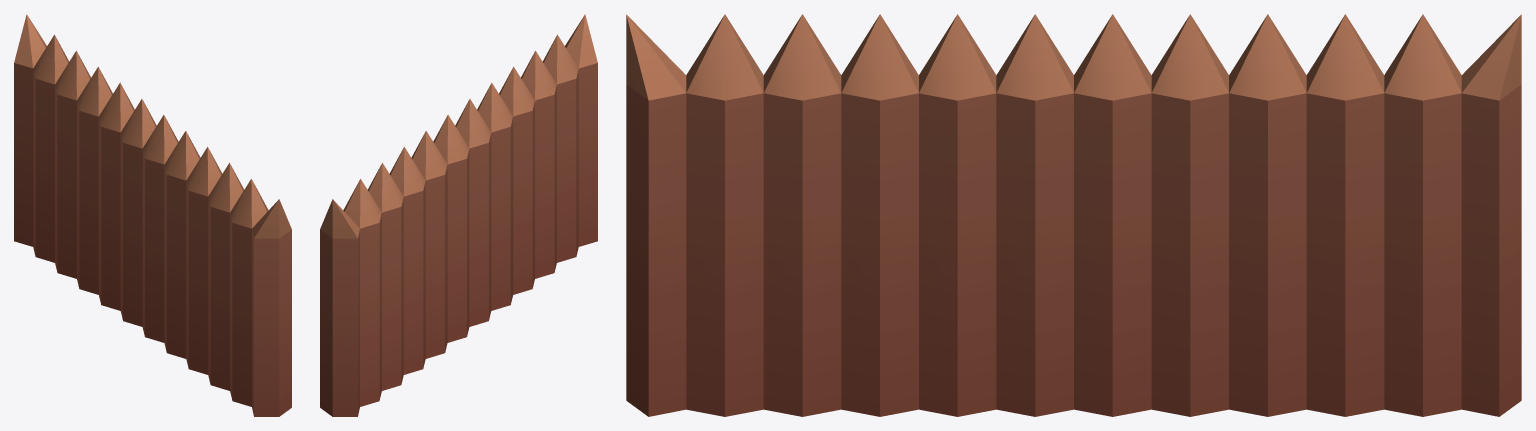
The model's file is fence_wood_straight.glb.
3 views of the same model, side by side, from view 1: azimuth 30°, elevation 25°; view 2: azimuth 150°, elevation 25°; view 3: azimuth 270°, elevation 25° (orthographic). The views are drawn at different scales.
Parts seen in each view (by area): view 1: fence_wood_straight; view 2: fence_wood_straight; view 3: fence_wood_straight.
Part boxes in pixels (x1=…): fence_wood_straight: x1=14, y1=14, x2=291, y2=416; fence_wood_straight: x1=320, y1=14, x2=597, y2=416; fence_wood_straight: x1=626, y1=14, x2=1521, y2=416.
Bounding box in the file's own units: 0.1 × 0.55 × 1.15.
Materials: 1 (1 with a texture image).
